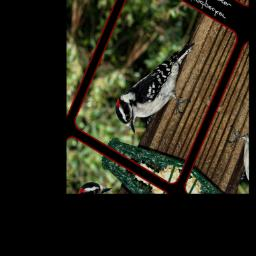Woodpecker: (108, 18, 213, 156)
